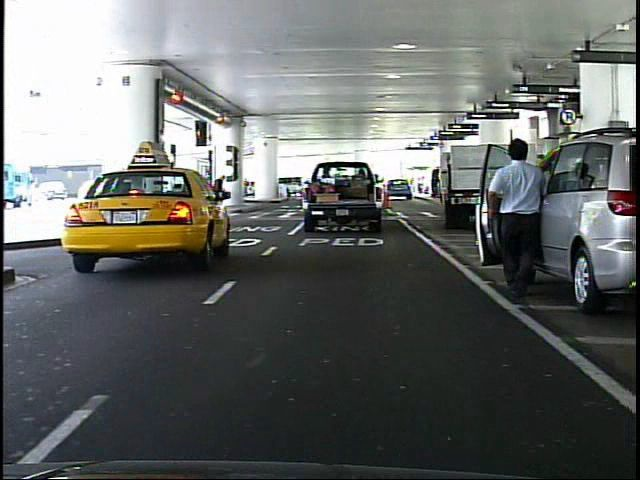person: (480, 129, 551, 300), (212, 167, 231, 210)
